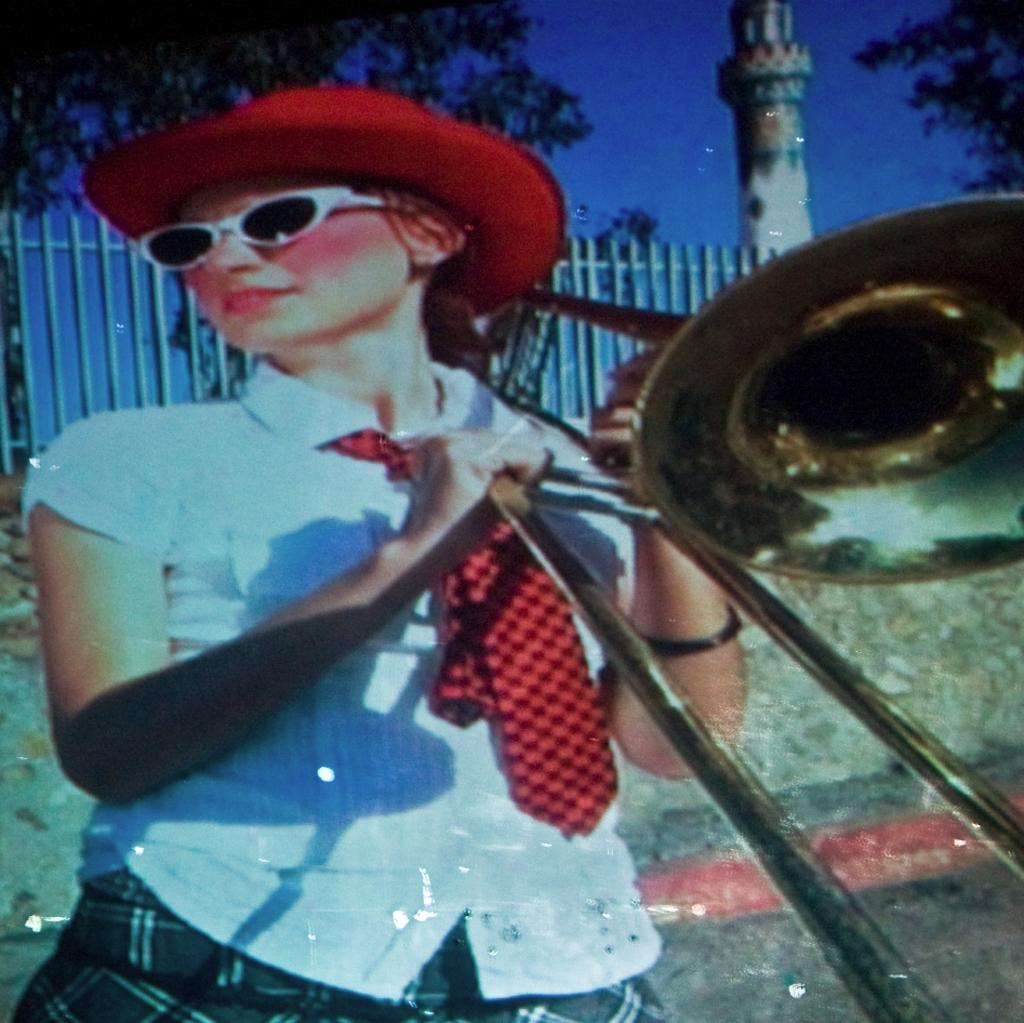Hat: (80, 86, 562, 317)
